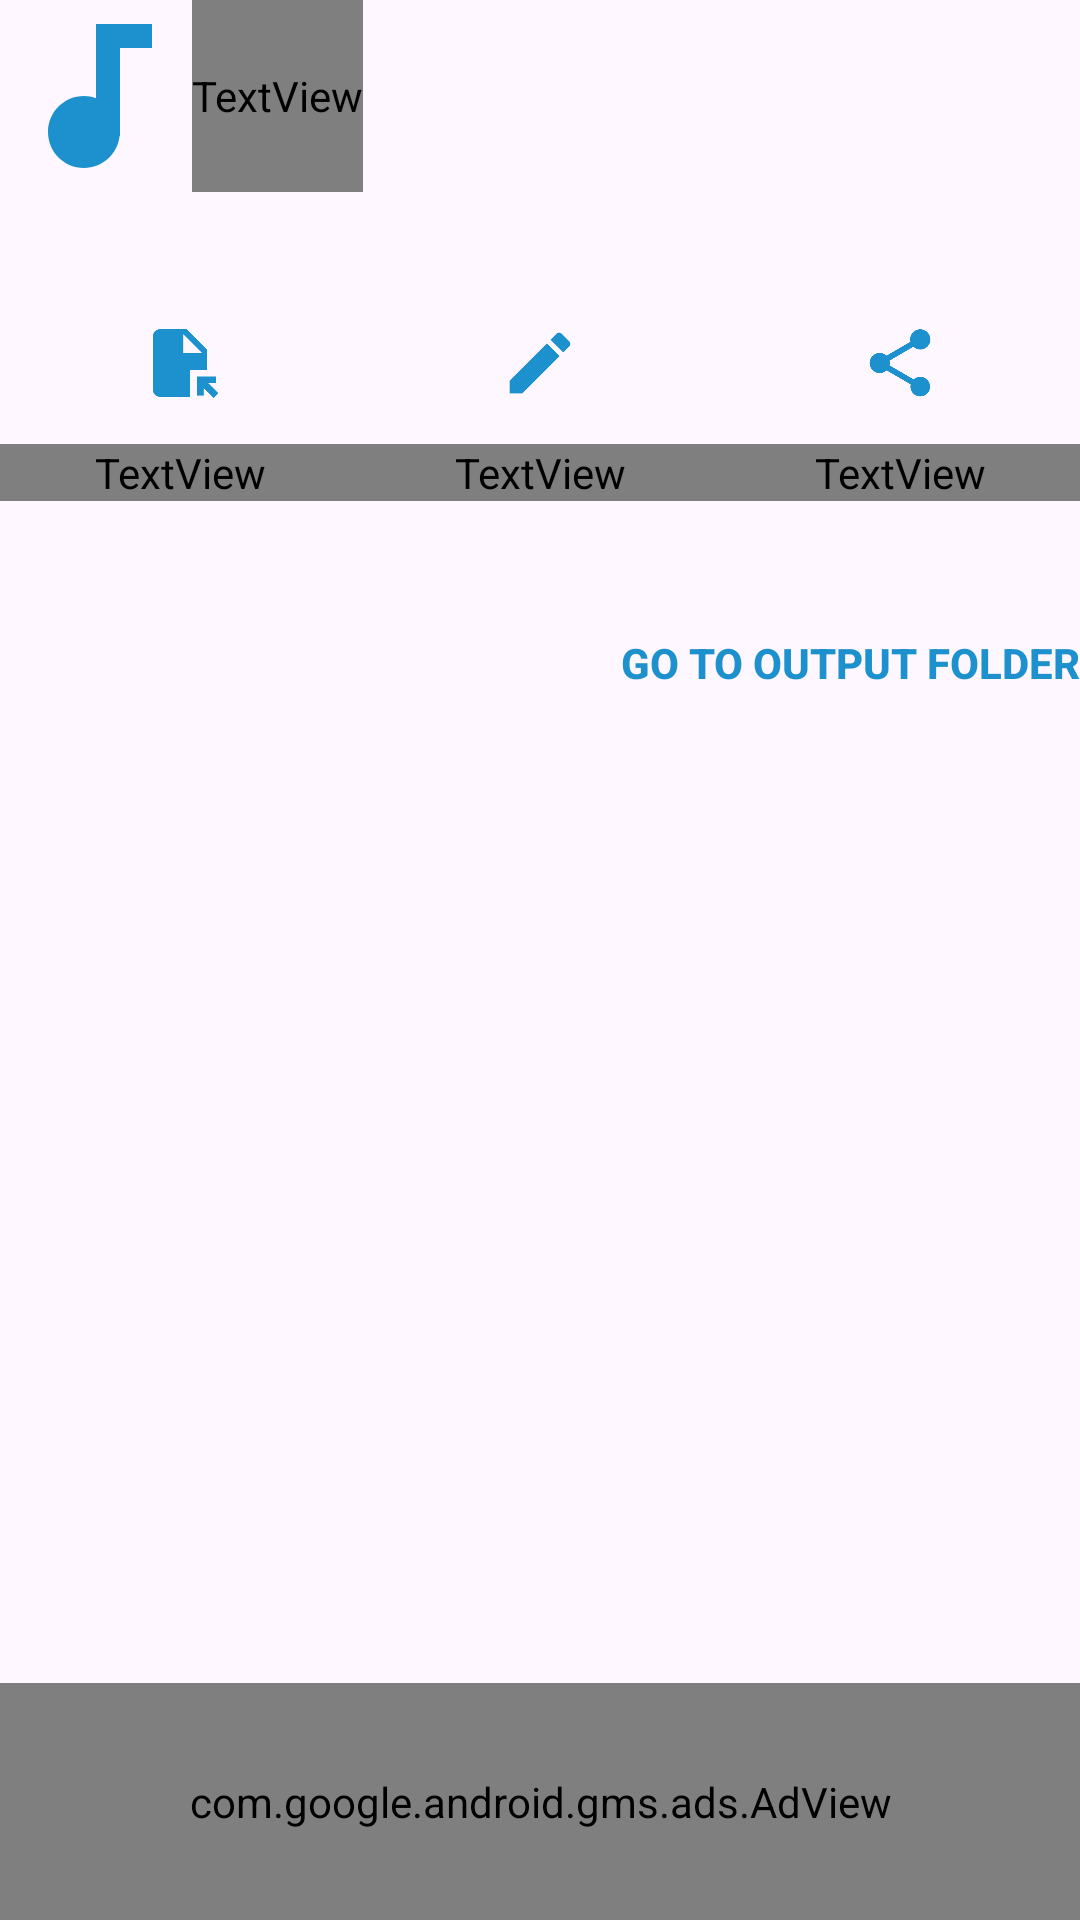

Icons on this 1080 x 1920 Android screen, each with its box as (x1, y1, x2, y2):
audiotrack: (48, 24, 152, 168)
